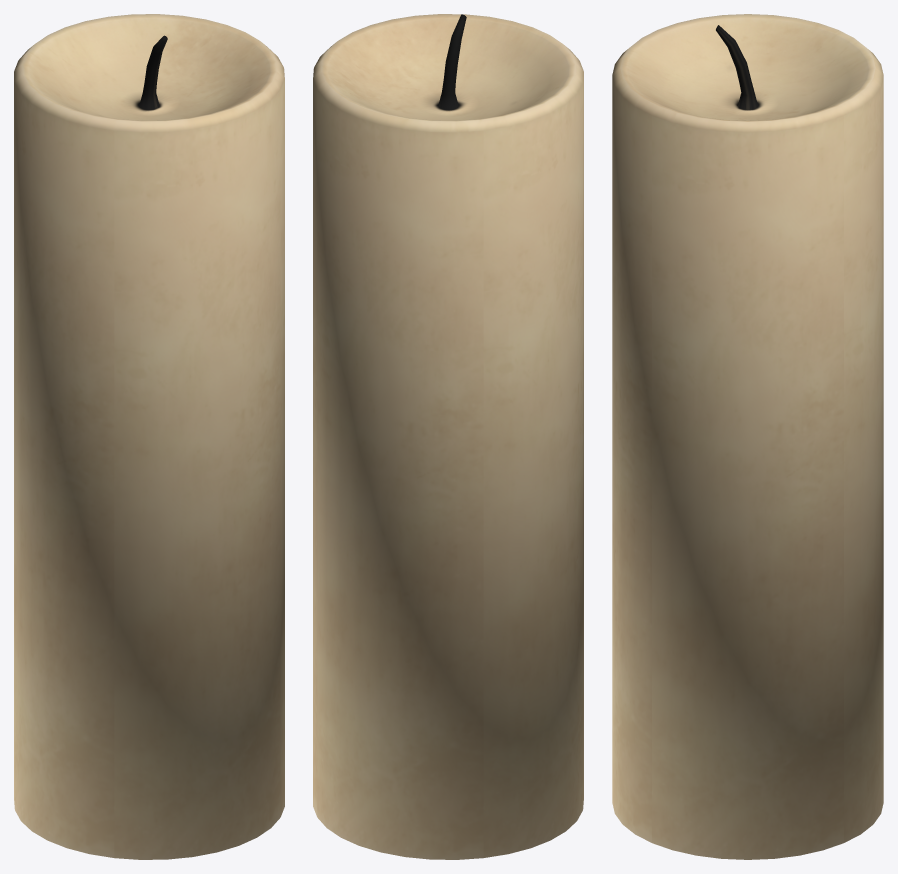
File: candela.fbx
3 renders of one model, left to right at view 1: azimuth 30°, elevation 25°; view 2: azimuth 150°, elevation 25°; view 3: azimuth 270°, elevation 25°, orthographic.
Visible parts, largest first — view 1: candela; view 2: candela; view 3: candela.
Part boxes in pixels (x1,y1,x2,y2): candela: [14, 14, 284, 859]; candela: [313, 14, 583, 859]; candela: [612, 14, 883, 859].
Bounding box in the file's own units: 4.79 × 15.13 × 4.79.
